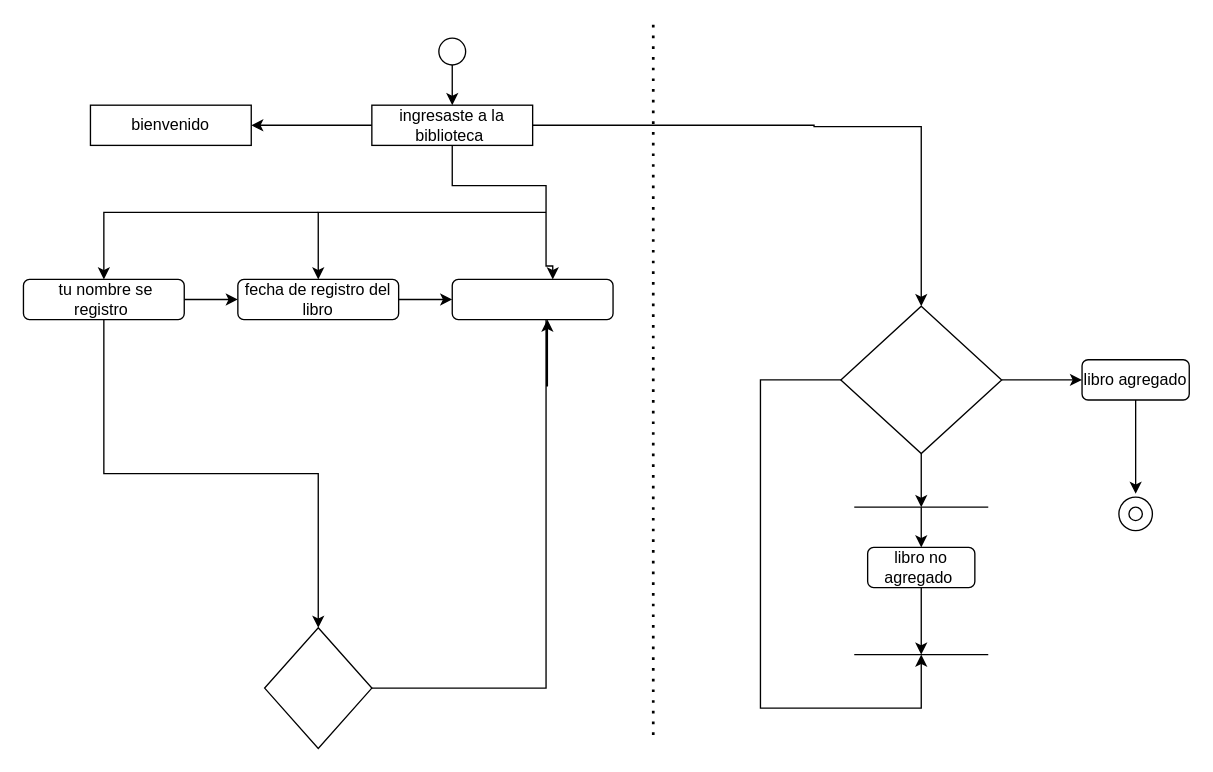
Image size: 1213x772. Some labels were removed from this diagram. Here are the shapes that lost their labels. From the top down, the box of each, then its label:
(451, 278, 613, 320): libro registrado
(840, 305, 1002, 454): agregar libro
(263, 626, 372, 748): libro encontrado
